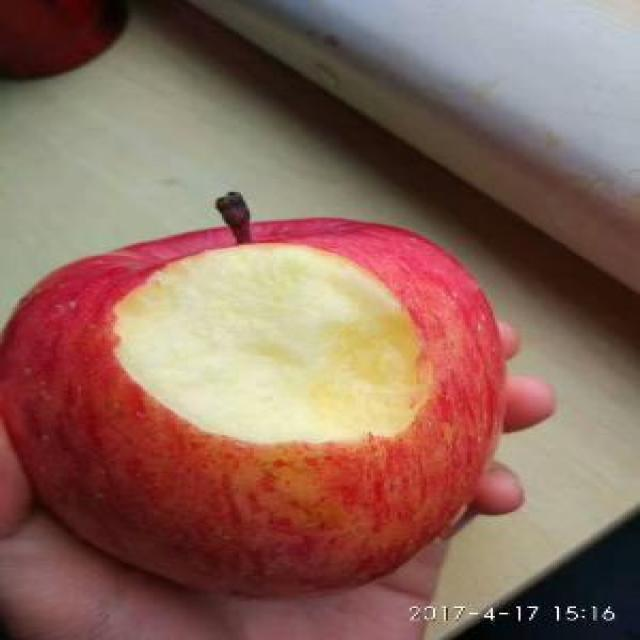Apple: (0, 207, 510, 602)
